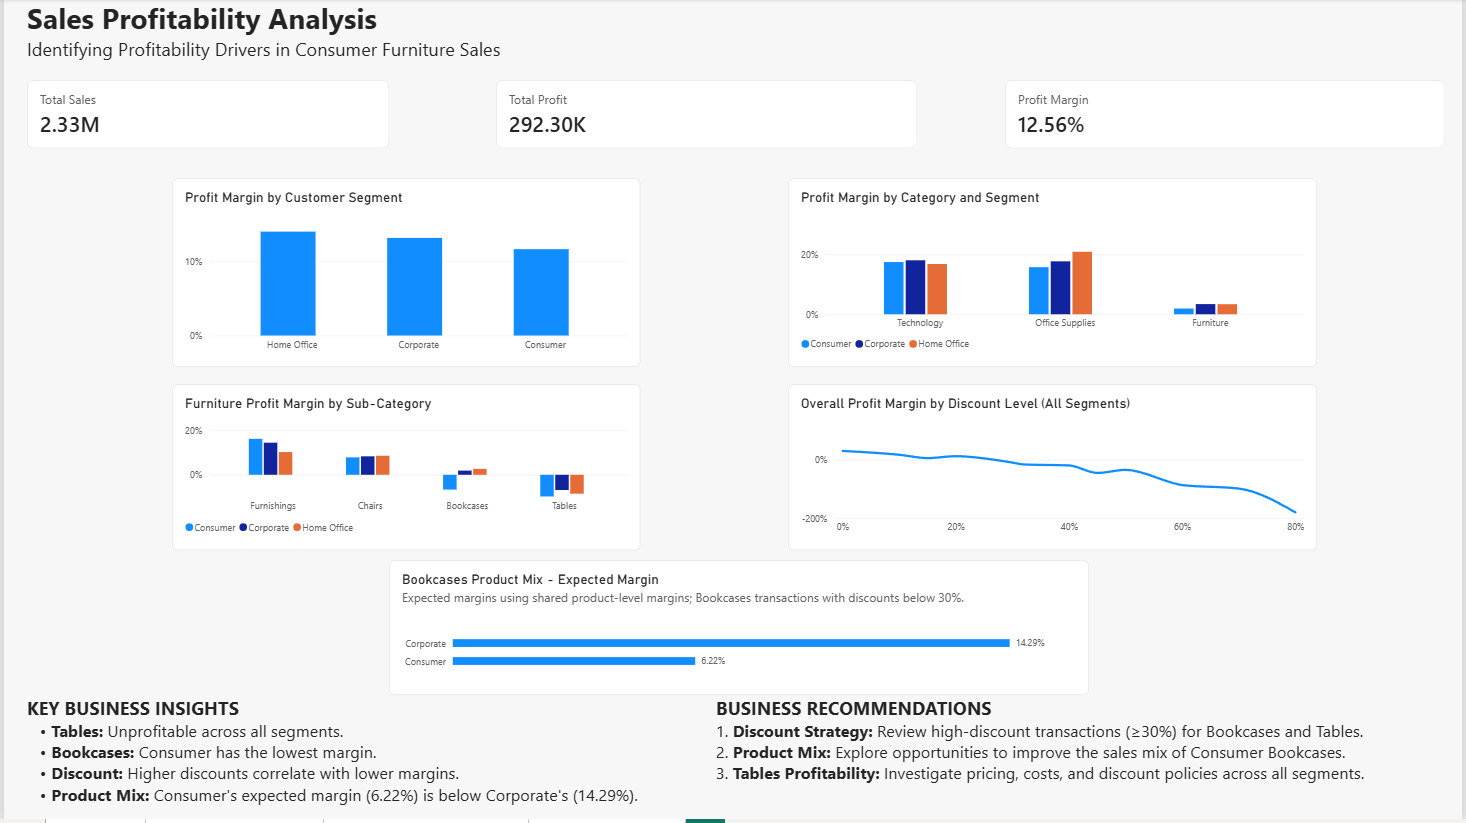

The dashboard page shown, as its layout file describes it:
{"tool":"powerbi","page":{"name":"Dashboard","canvas":[1920,1080],"ordinal":3},"visuals":[{"type":"cardVisual","fields":{"Data":["Orders.Total Sales"]},"box":[30.6,106.5,477.1,90.5],"z":0},{"type":"cardVisual","fields":{"Data":["Orders.Total Profit"]},"box":[647.8,106.5,554.4,90.5],"z":1},{"type":"cardVisual","fields":{"Data":["Orders.Profit Margin"]},"box":[1318.9,106.5,579.2,90.5],"z":2},{"type":"clusteredColumnChart","title":"Profit Margin by Customer Segment","fields":{"Category":["Orders.Segment"],"Y":["Orders.Profit Margin"]},"box":[221.8,236.4,617.1,249.5],"z":3},{"type":"clusteredColumnChart","fields":{"Category":["Orders.Category"],"Series":["Orders.Segment"],"Y":["Orders.Profit Margin"]},"box":[1032.9,236.4,697.4,249.5],"z":4},{"type":"clusteredColumnChart","title":"Furniture Profit Margin by Sub-Category","fields":{"Category":["Orders.Sub-Category"],"Series":["Orders.Segment"],"Y":["Orders.Profit Margin"]},"box":[221.8,507.7,617.1,218.8],"z":5},{"type":"lineChart","title":"Overall Profit Margin by Discount","fields":{"Category":["Orders.Discount"],"Y":["Orders.Profit Margin"]},"box":[1032.9,507.7,697.4,218.8],"z":6},{"type":"clusteredBarChart","title":"Bookcases Product Mix - Expected Margin","fields":{"Category":["Orders.Segment"],"Y":["Orders.Product Mix Margin"]},"box":[507.7,738.2,922.1,178],"z":7},{"type":"textbox","box":[30.6,0,1867.5,106.5],"z":8},{"type":"textbox","box":[30.6,916.2,838.9,163.4],"z":9},{"type":"textbox","box":[938.1,916.2,960,163.4],"z":10}]}

Visuals, with their boxes in screenshot pixels (x1, y1, x2, y2), scaled from the page's 1920x1080 canvas onto the 1466x823 screenshot:
cardVisual - Orders.Total Sales: [23,81,388,150]
cardVisual - Orders.Total Profit: [495,81,918,150]
cardVisual - Orders.Profit Margin: [1007,81,1449,150]
"Profit Margin by Customer Segment" clusteredColumnChart: [169,180,641,370]
clusteredColumnChart - Orders.Category x Orders.Segment: [789,180,1321,370]
"Furniture Profit Margin by Sub-Category" clusteredColumnChart: [169,387,641,554]
"Overall Profit Margin by Discount" lineChart: [789,387,1321,554]
"Bookcases Product Mix - Expected Margin" clusteredBarChart: [388,563,1092,698]
textbox: [23,0,1449,81]
textbox: [23,698,664,822]
textbox: [716,698,1449,822]
